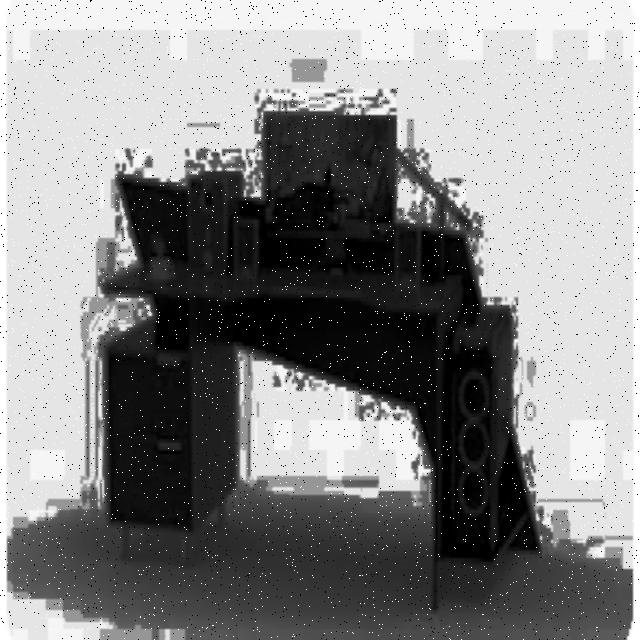table: (105, 257, 468, 610)
